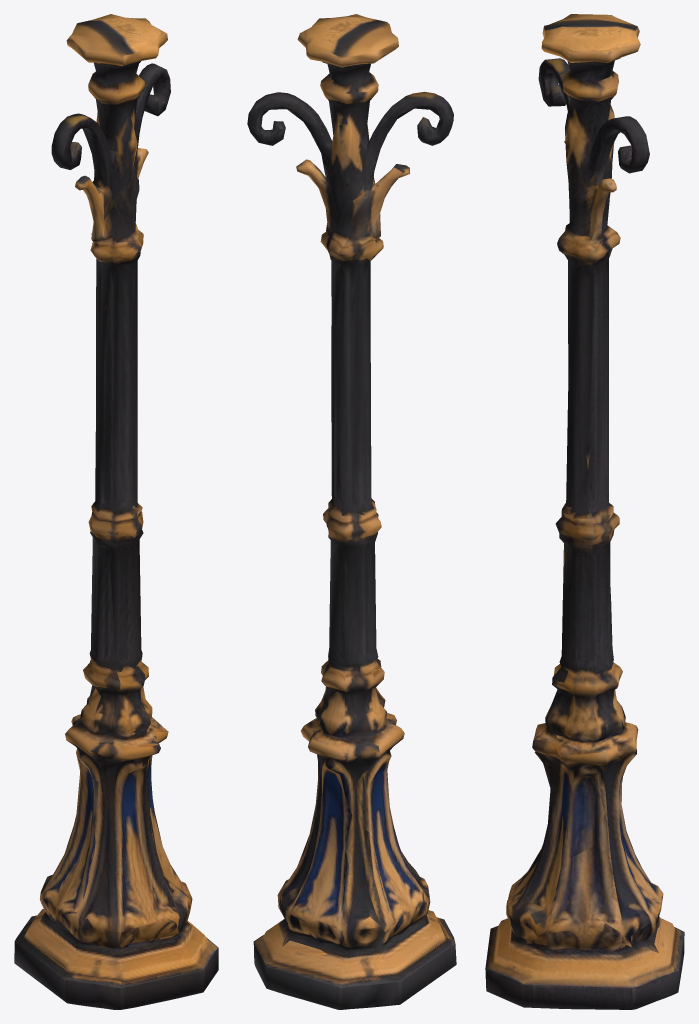
Rendered from lamp-post-iron.glb.
3 views of the same model, side by side, from view 1: azimuth 30°, elevation 25°; view 2: azimuth 150°, elevation 25°; view 3: azimuth 270°, elevation 25° (orthographic).
Parts seen in each view (by area): view 1: lamp-post-iron; view 2: lamp-post-iron; view 3: lamp-post-iron.
Boxes of the visible parts, x1,y1,x2,y2 form: lamp-post-iron: (14,14,218,1009); lamp-post-iron: (247,14,456,1009); lamp-post-iron: (485,14,684,1009).
Size of the model in its own units: 0.7841 by 4.37 by 0.8318.
1 material, 1 textured.
